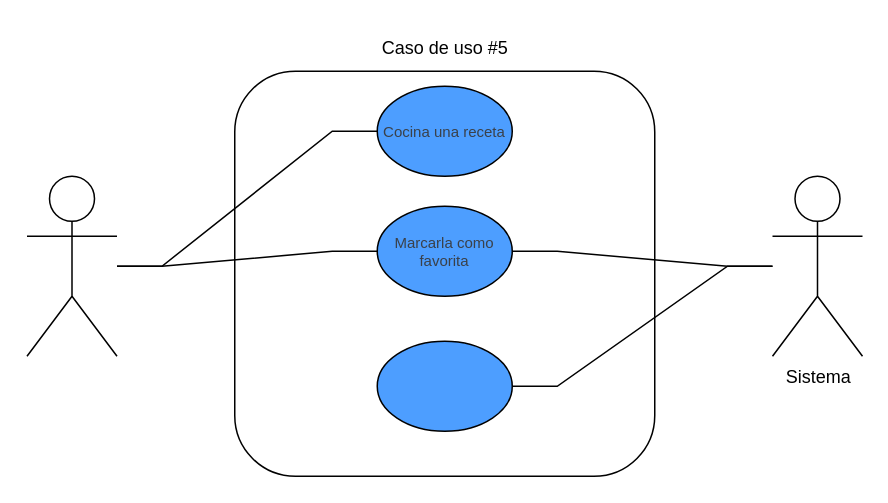
Some shapes in this 888 by 503 pixel diagram are drawn without their labels. The shapes that lost their labels are listed below. From the top down, each one's centre as x and y in pixels, then its label:
At (71,265): "Usuario".
At (444,385): "Guardarla en recetas favoritas".
